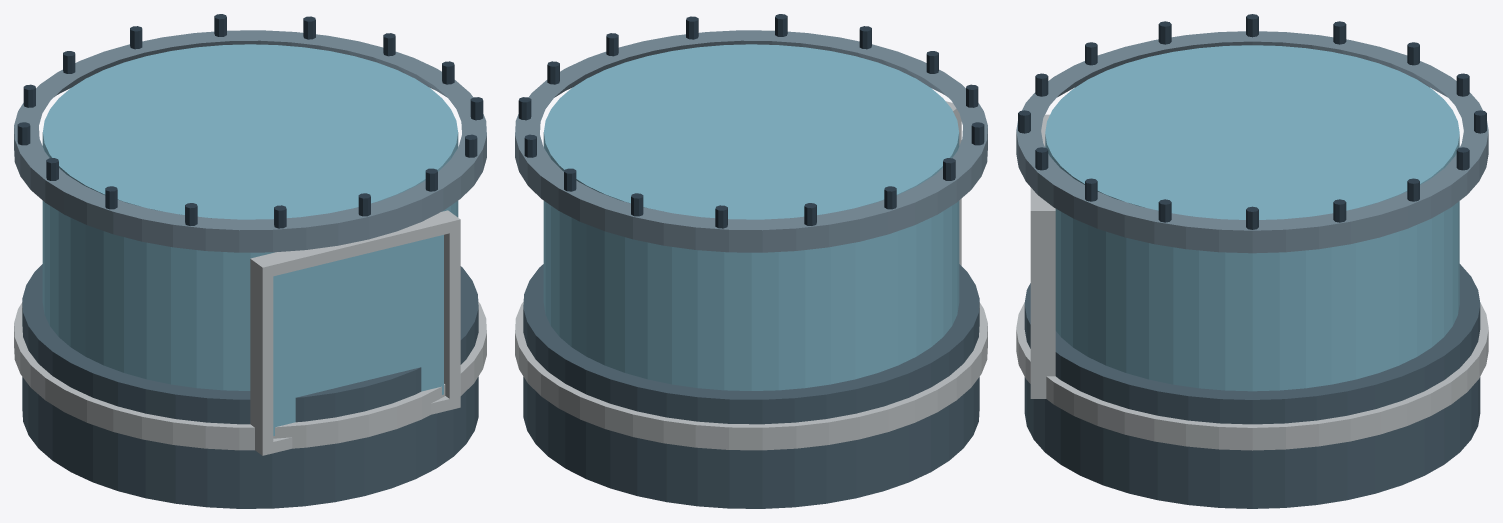
Rendered from 05_L78_HighVacuumWaferLoadLock.glb.
The picture shows the model from 3 angles, left to right: view 1: azimuth 30°, elevation 25°; view 2: azimuth 150°, elevation 25°; view 3: azimuth 270°, elevation 25°; orthographic projection.
Visible parts, largest first — view 1: HighVacuumWaferLoadLock_Node_0001, HighVacuumWaferLoadLock_Node_0000, HighVacuumWaferLoadLock_Node_0003, HighVacuumWaferLoadLock_Node_0033, HighVacuumWaferLoadLock_Node_0002, HighVacuumWaferLoadLock_Node_0021, HighVacuumWaferLoadLock_Node_0029, HighVacuumWaferLoadLock_Node_0023, HighVacuumWaferLoadLock_Node_0020, HighVacuumWaferLoadLock_Node_0025; view 2: HighVacuumWaferLoadLock_Node_0001, HighVacuumWaferLoadLock_Node_0000, HighVacuumWaferLoadLock_Node_0003, HighVacuumWaferLoadLock_Node_0002; view 3: HighVacuumWaferLoadLock_Node_0001, HighVacuumWaferLoadLock_Node_0000, HighVacuumWaferLoadLock_Node_0003, HighVacuumWaferLoadLock_Node_0002, HighVacuumWaferLoadLock_Node_0023, HighVacuumWaferLoadLock_Node_0022.
Boxes of the visible parts, x1,y1,x2,y2 form: HighVacuumWaferLoadLock_Node_0001: (42, 44, 458, 390); HighVacuumWaferLoadLock_Node_0000: (22, 264, 478, 508); HighVacuumWaferLoadLock_Node_0003: (14, 30, 486, 252); HighVacuumWaferLoadLock_Node_0033: (273, 235, 443, 435); HighVacuumWaferLoadLock_Node_0002: (14, 302, 486, 450); HighVacuumWaferLoadLock_Node_0021: (256, 261, 273, 455); HighVacuumWaferLoadLock_Node_0029: (257, 215, 460, 278); HighVacuumWaferLoadLock_Node_0023: (444, 215, 460, 408); HighVacuumWaferLoadLock_Node_0020: (250, 256, 266, 439); HighVacuumWaferLoadLock_Node_0025: (256, 396, 460, 454); HighVacuumWaferLoadLock_Node_0001: (543, 44, 959, 390); HighVacuumWaferLoadLock_Node_0000: (523, 264, 979, 508); HighVacuumWaferLoadLock_Node_0003: (515, 30, 987, 252); HighVacuumWaferLoadLock_Node_0002: (515, 302, 987, 450); HighVacuumWaferLoadLock_Node_0001: (1045, 45, 1459, 391); HighVacuumWaferLoadLock_Node_0000: (1024, 264, 1480, 508); HighVacuumWaferLoadLock_Node_0003: (1016, 31, 1488, 253); HighVacuumWaferLoadLock_Node_0002: (1016, 303, 1488, 450); HighVacuumWaferLoadLock_Node_0023: (1030, 205, 1043, 398); HighVacuumWaferLoadLock_Node_0022: (1043, 205, 1055, 398).
Bounding box in the file's own units: 2.28 × 1.59 × 2.28.
